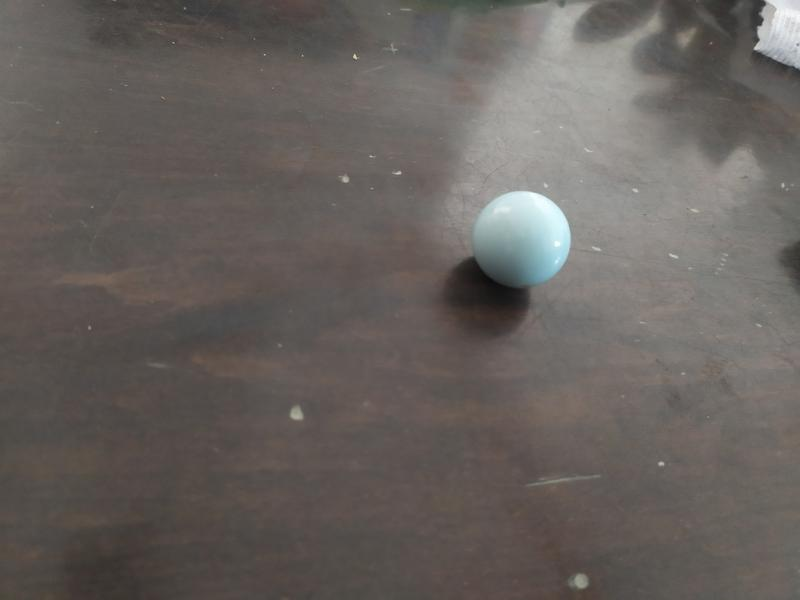Warning: (468, 186, 575, 292)
